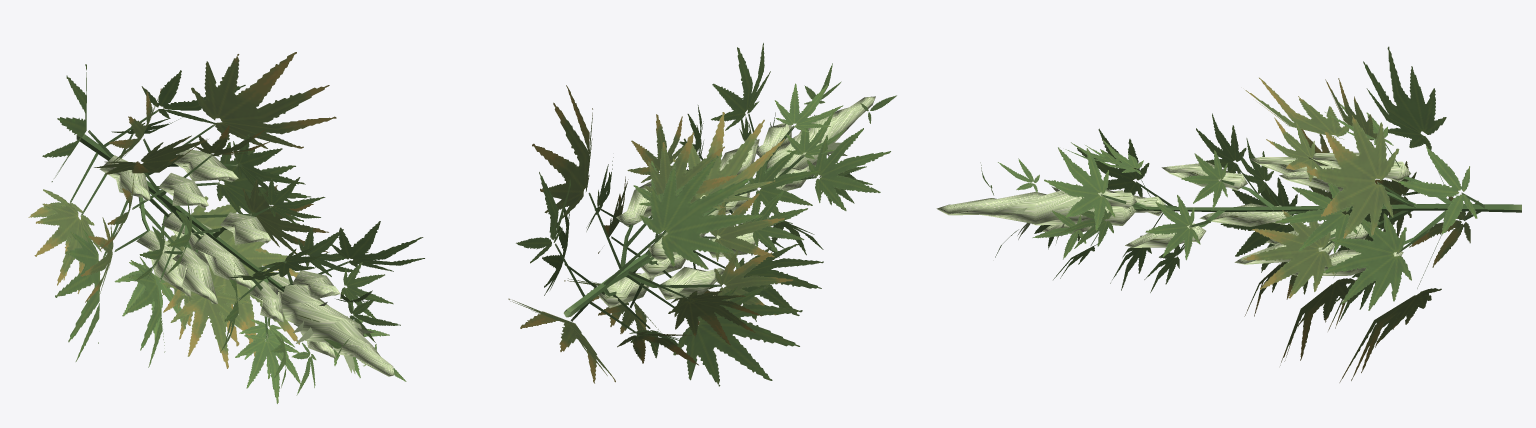
The model's file is p_frosty_landrace_ripe_c0_cards.obj.
The picture shows the model from 3 angles, left to right: view 1: azimuth 30°, elevation 25°; view 2: azimuth 150°, elevation 25°; view 3: azimuth 270°, elevation 25°; orthographic projection. The views are drawn at different scales.
Size of the model in its own units: 1.33 by 1.35 by 2.13.
Materials: 1 (1 with a texture image).
